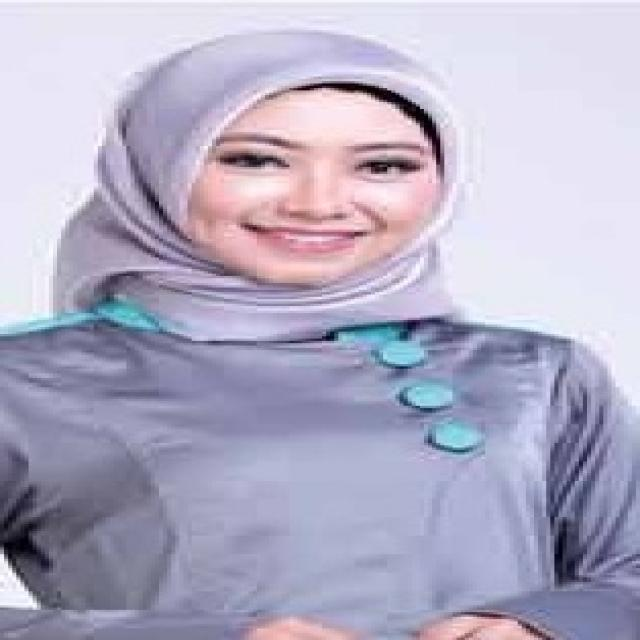head: (124, 30, 446, 294)
